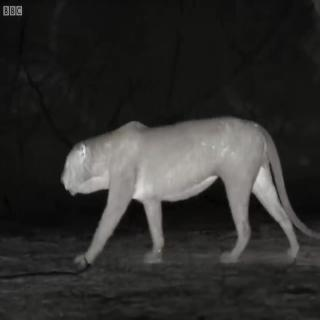Leopard: (49, 103, 303, 293)
